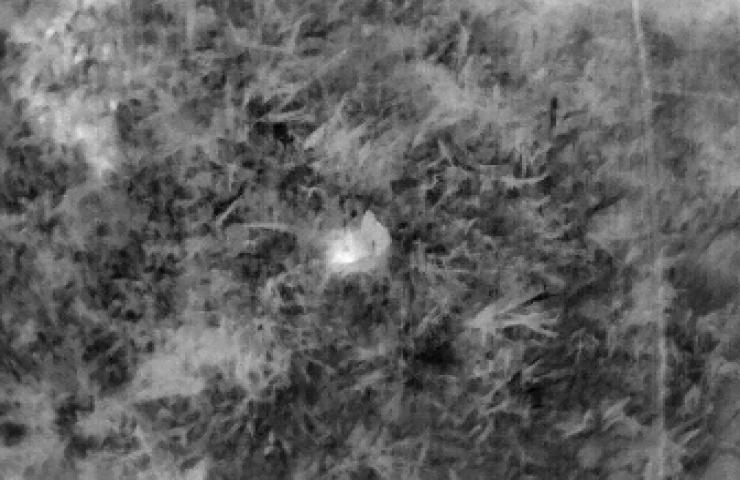landmines: (323, 228, 371, 268)
